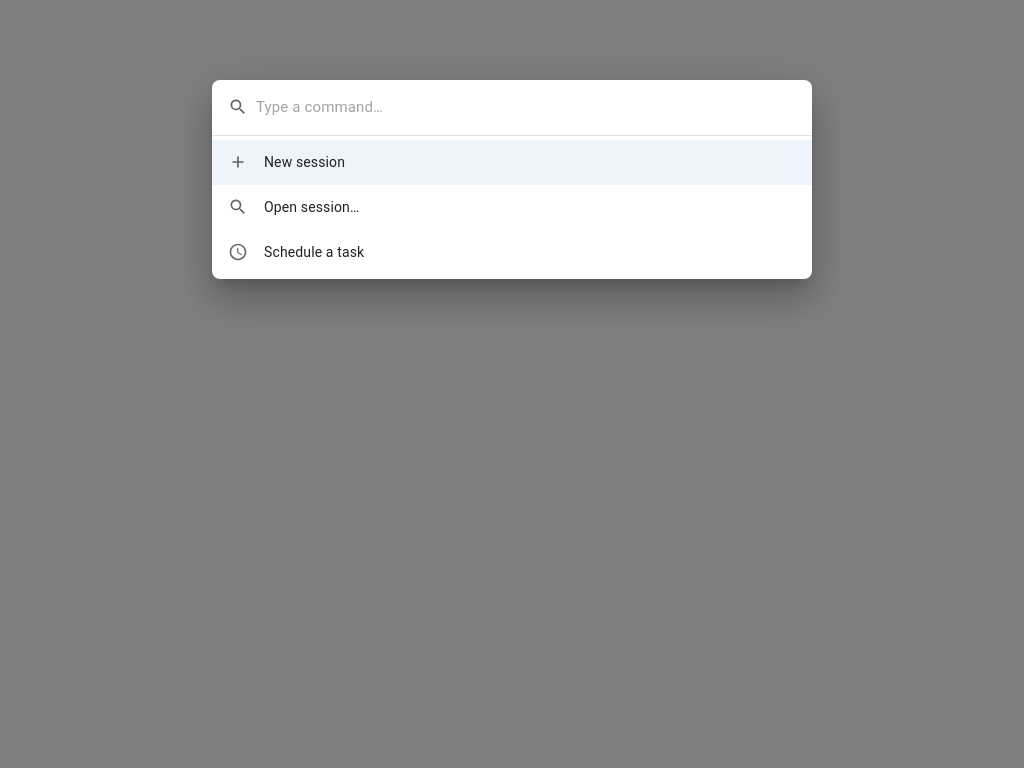
it: CommandPalette › filters the root actions by the search query
Type "sched" into the field labelled "Type a command".
click(526, 107); type("sched")  # box 256,92 -> 796,123
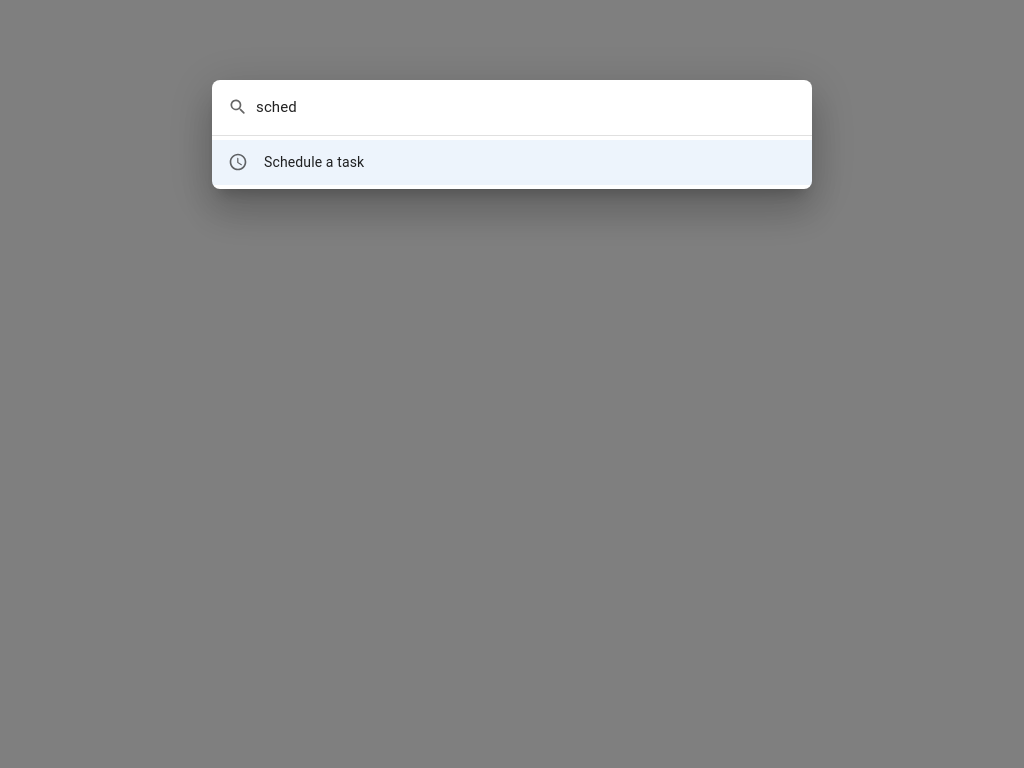
Check: the text "Schedule a task" is shown, box 264,154 -> 364,170
Check: the button "New session" is gone
